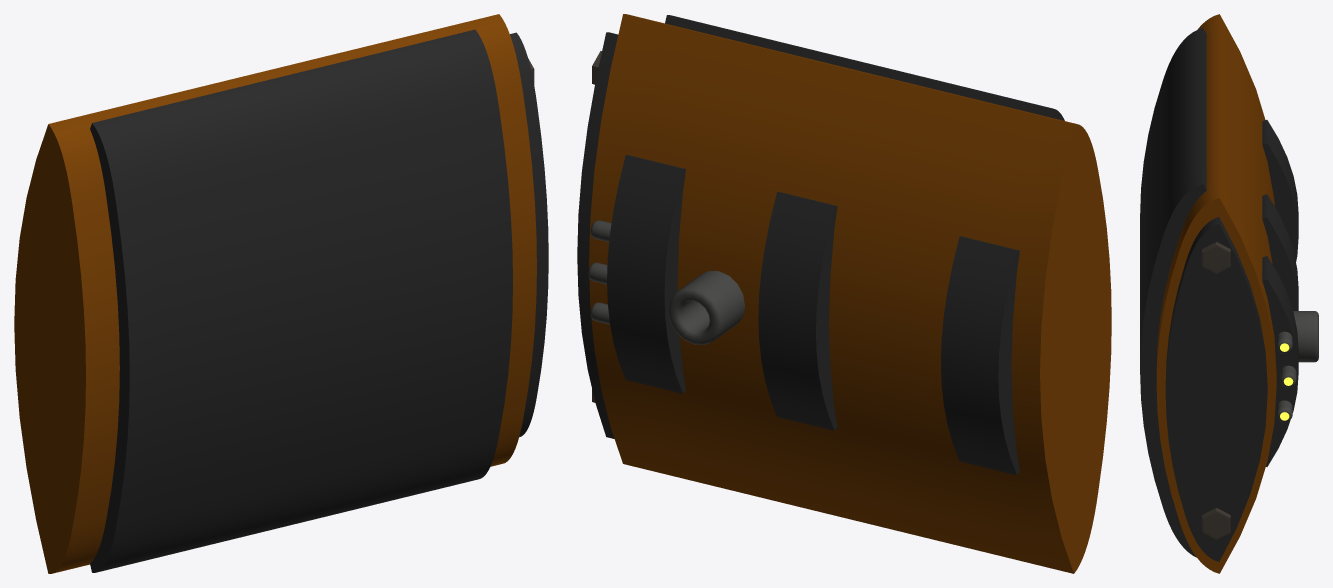
File: Крыло право.fbx
The picture shows the model from 3 angles, left to right: view 1: azimuth 30°, elevation 25°; view 2: azimuth 150°, elevation 25°; view 3: azimuth 270°, elevation 25°; orthographic projection. The views are drawn at different scales.
Visible parts, largest first — view 1: Cube_3, Cube_1, Cube_8; view 2: Cube_1, Cube_10, Cube_11, Cube_5, Cube_8, Tube_1, Cube_3; view 3: Cube_8, Cube_1, Cube_3, Cube_5, Cube_11, Cube_10, Крыло_2, Tube_1, Cylinder_1_2, Cylinder_1, Cylinder_1_3.
Boxes of the visible parts, x1,y1,x2,y2 form: Cube_3: (90,29,512,572); Cube_1: (14,14,536,573); Cube_8: (510,32,548,436); Cube_1: (589,14,1111,573); Cube_10: (758,191,837,430); Cube_11: (941,236,1019,475); Cube_5: (607,155,685,393); Cube_8: (577,32,618,438); Tube_1: (668,271,745,344); Cube_3: (665,15,1064,120); Cube_8: (1165,217,1267,561); Cube_1: (1156,14,1276,573); Cube_3: (1140,28,1206,557); Cube_5: (1262,256,1298,466); Cube_11: (1262,120,1298,261); Cube_10: (1262,194,1298,310); Крыло_2: (1202,242,1230,540); Tube_1: (1293,311,1318,362); Cylinder_1_2: (1276,331,1292,353); Cylinder_1: (1280,365,1296,387); Cylinder_1_3: (1276,400,1292,422).
Bounding box in the file's own units: 139 × 125 × 54.05.
